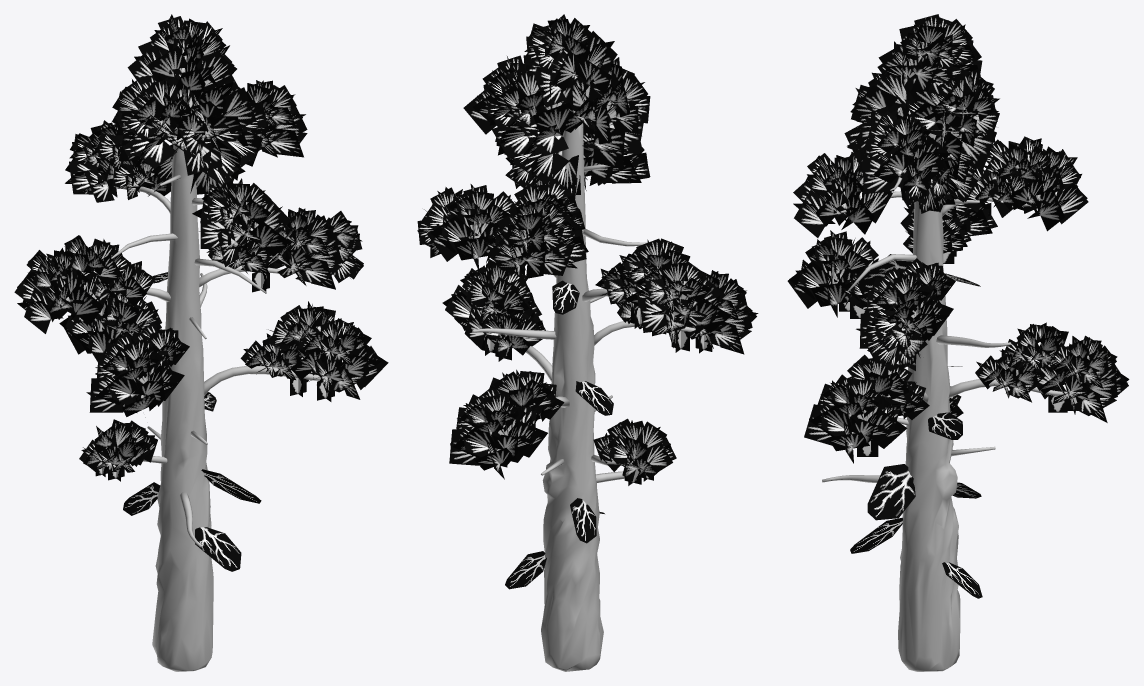
Rendered from trunk_for_Unity.fbx.
The picture shows the model from 3 angles, left to right: view 1: azimuth 30°, elevation 25°; view 2: azimuth 150°, elevation 25°; view 3: azimuth 270°, elevation 25°; orthographic projection.
Parts seen in each view (by area): view 1: Plane.025, PM3D_Cylinder_2.001, Plane.004, Plane.010; view 2: Plane.025, PM3D_Cylinder_2.001, Plane.004, Plane.010; view 3: Plane.025, PM3D_Cylinder_2.001, Plane.004, Plane.010.
Part boxes in pixels (<box>): Plane.025: <box>14,14,388,472</box>; PM3D_Cylinder_2.001: <box>98,129,331,671</box>; Plane.004: <box>123,272,261,571</box>; Plane.010: <box>73,272,334,481</box>; Plane.025: <box>417,14,758,480</box>; PM3D_Cylinder_2.001: <box>472,123,710,671</box>; Plane.004: <box>505,280,613,589</box>; Plane.010: <box>481,264,712,485</box>; Plane.025: <box>787,14,1129,463</box>; PM3D_Cylinder_2.001: <box>817,133,1073,671</box>; Plane.004: <box>850,254,982,598</box>; Plane.010: <box>839,251,1077,456</box>.
Bounding box in the file's own units: 9739 × 18480 × 8848.
